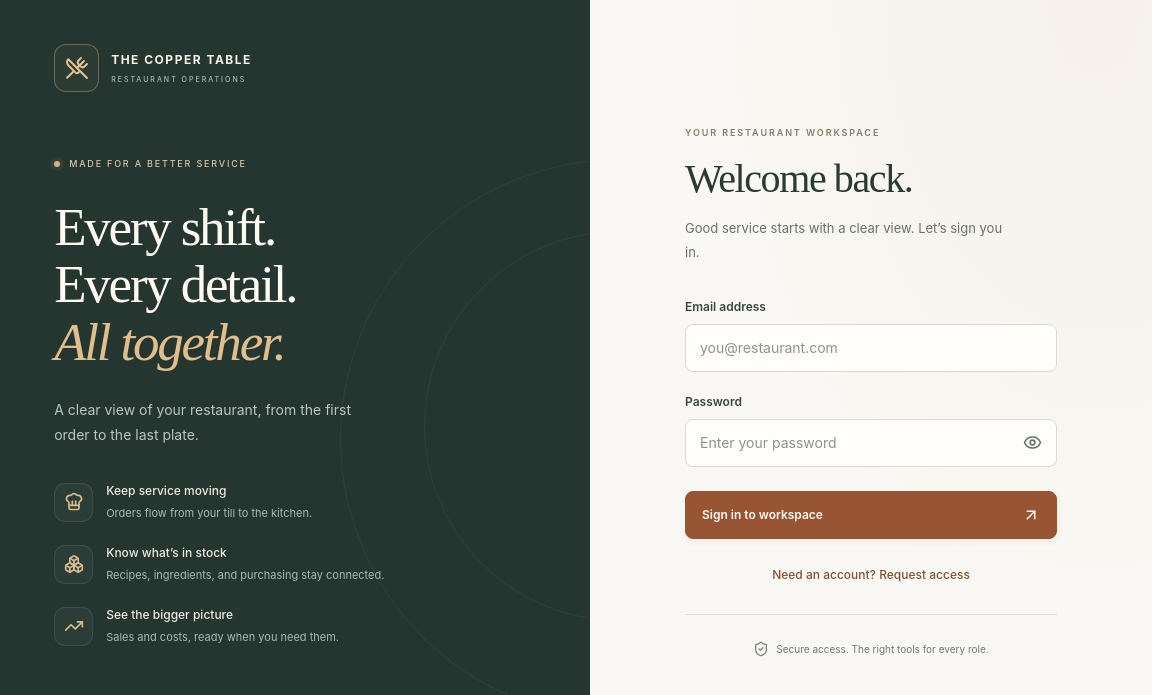
authenticated restaurant workspace › signs in with the CSRF token and displays server metrics
The width and height of the screenshot is (1152, 695).
Expected: the heading "Welcome back." is shown, 685,156 -> 912,201
Type "owner@example.test" into the field labelled "Email address".
click(871, 348); type("owner@example.test")  # box 685,324 -> 1057,372
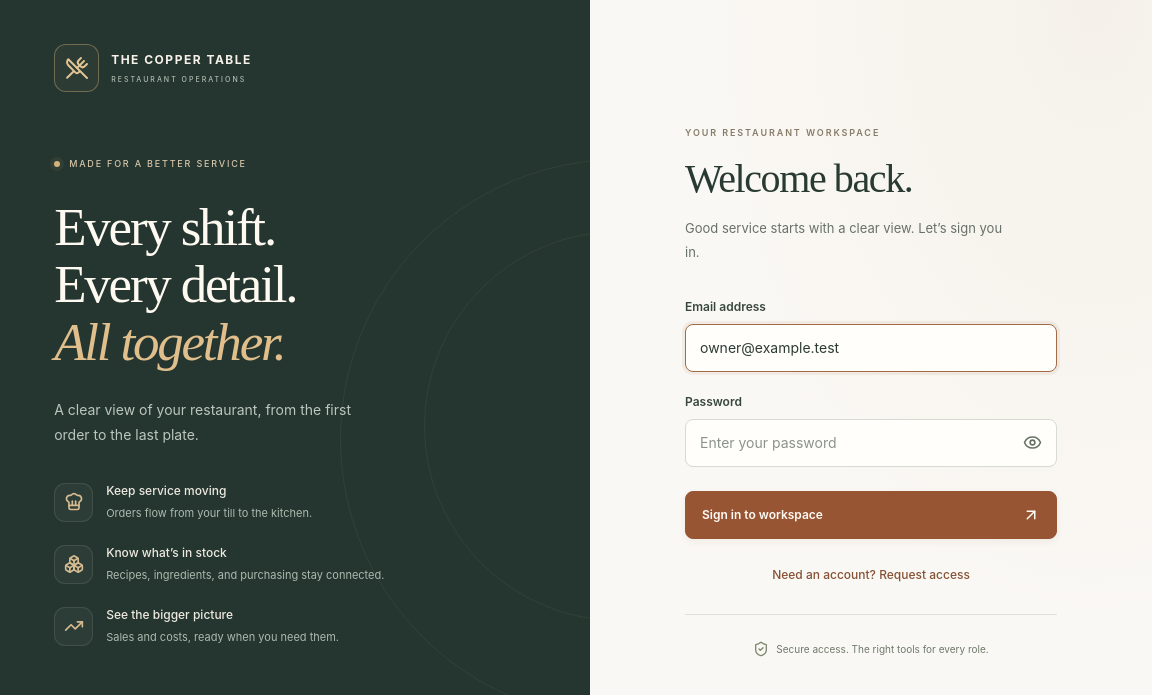
Type "a-long-password" into the password field labelled "Password".
click(871, 443); type("a-long-password")  # box 685,419 -> 1057,467
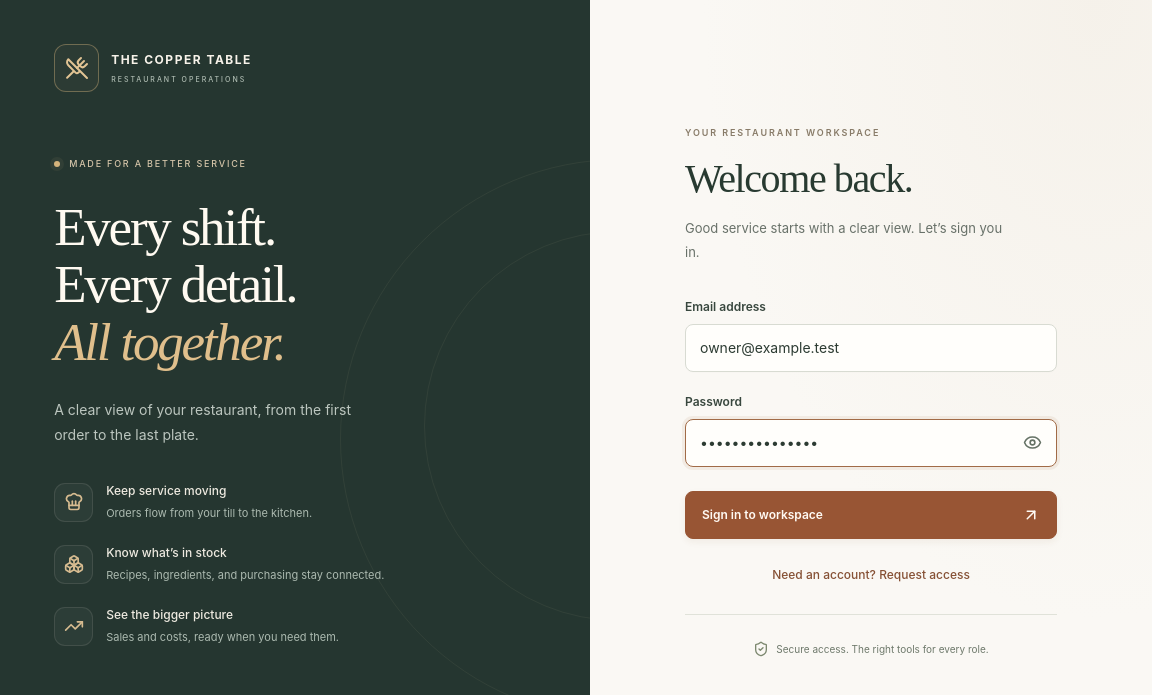
Click the button "Sign in to workspace".
click(762, 514)  # box 685,491 -> 1057,539
(page scrolled)
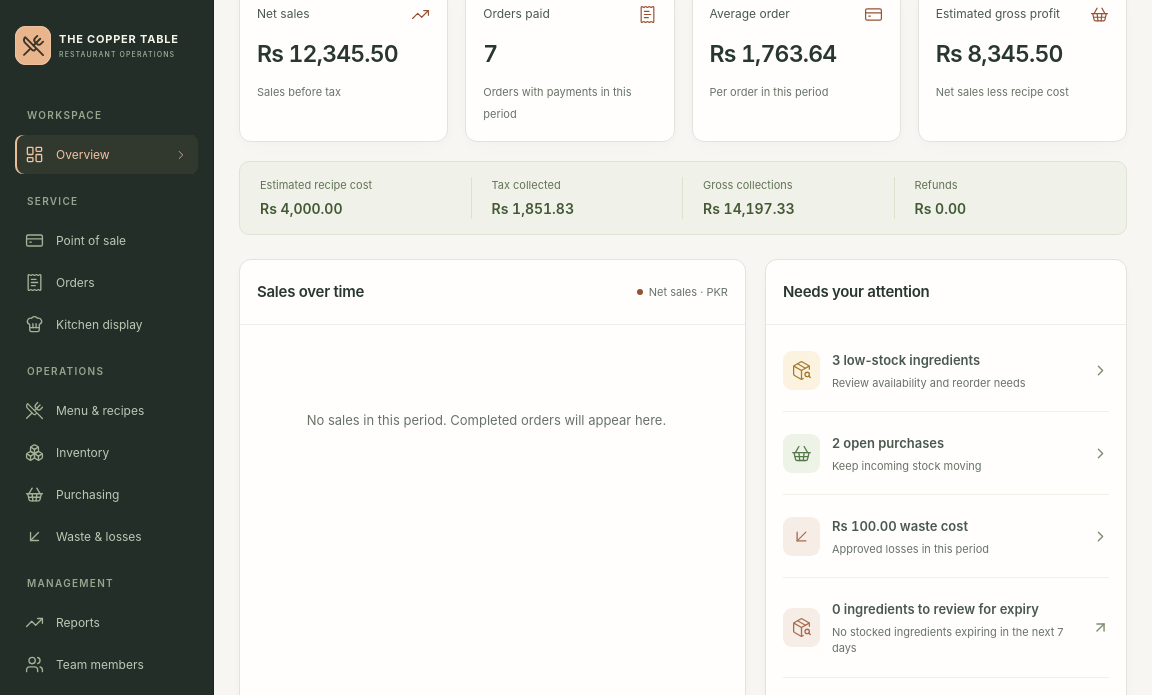
Now the text "Rs 12,345.50" is shown, box 257,40 -> 398,68
Now the text "3 low-stock ingredients" is shown, box 832,352 -> 980,368
